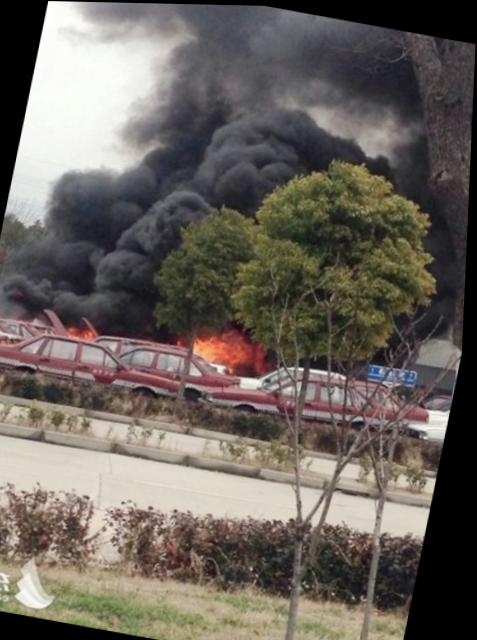fire: (171, 309, 271, 374)
